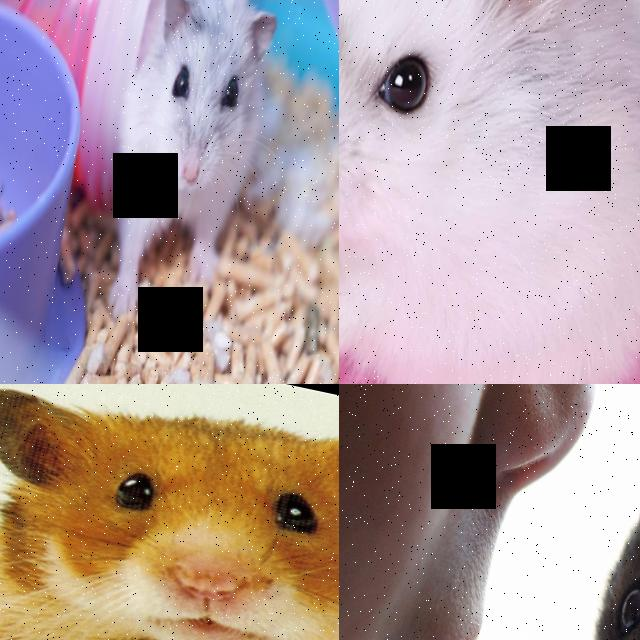hamster: (339, 0, 640, 384), (0, 384, 339, 640), (83, 0, 290, 336), (559, 395, 640, 640)
